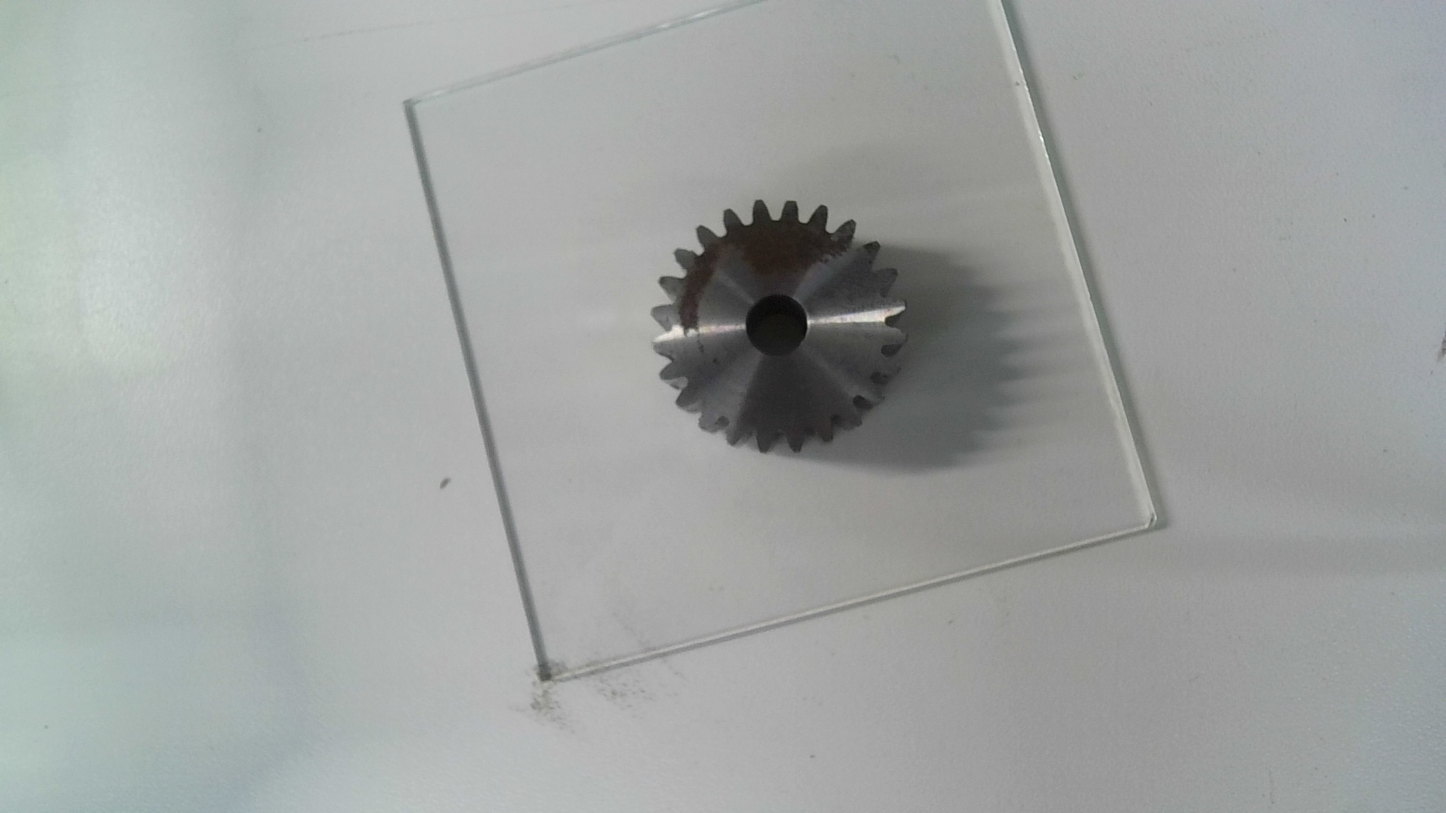gear: (645, 198, 915, 461)
